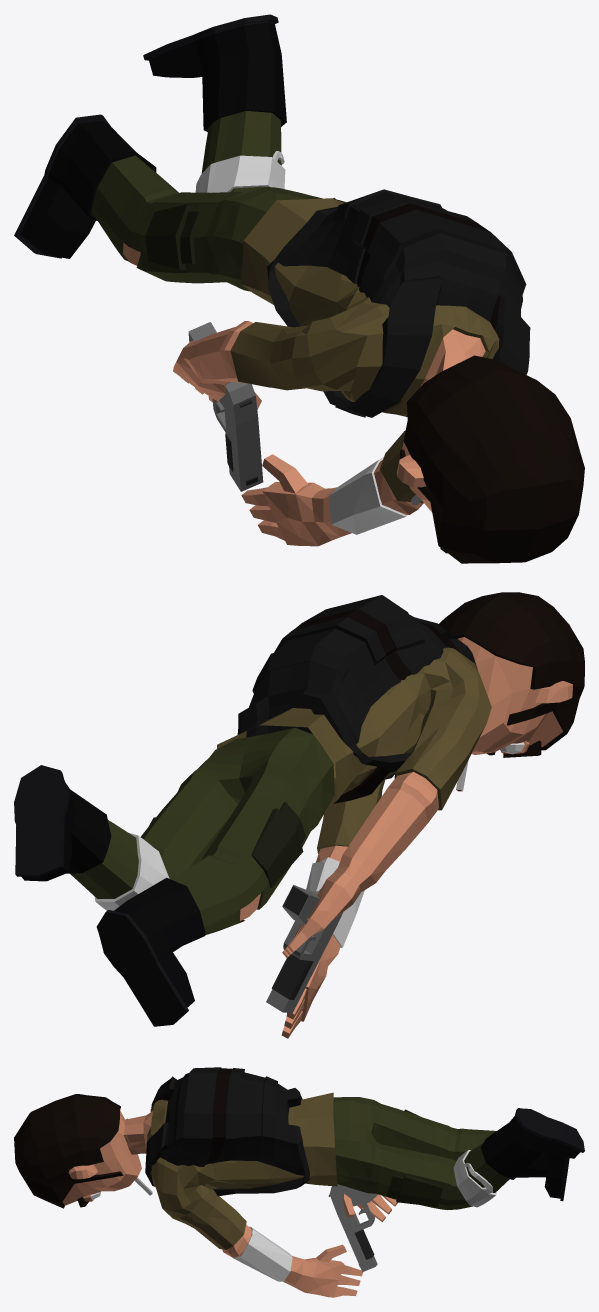
The model's file is frame_0080.obj.
3 renders of one model, top to bottom at view 1: azimuth 30°, elevation 25°; view 2: azimuth 150°, elevation 25°; view 3: azimuth 270°, elevation 25°, orthographic. The views are drawn at different scales.
Parts seen in each view (by area): view 1: Body, Gun; view 2: Body, Gun; view 3: Body, Gun.
Boxes of the visible parts, x1,y1,x2,y2 form: Body: [14, 14, 584, 563]; Gun: [188, 322, 263, 491]; Body: [14, 592, 584, 1038]; Gun: [266, 885, 342, 1013]; Body: [14, 1067, 584, 1297]; Gun: [328, 1184, 378, 1271].
Size of the model in its own units: 1.32 by 1.9 by 4.22.
